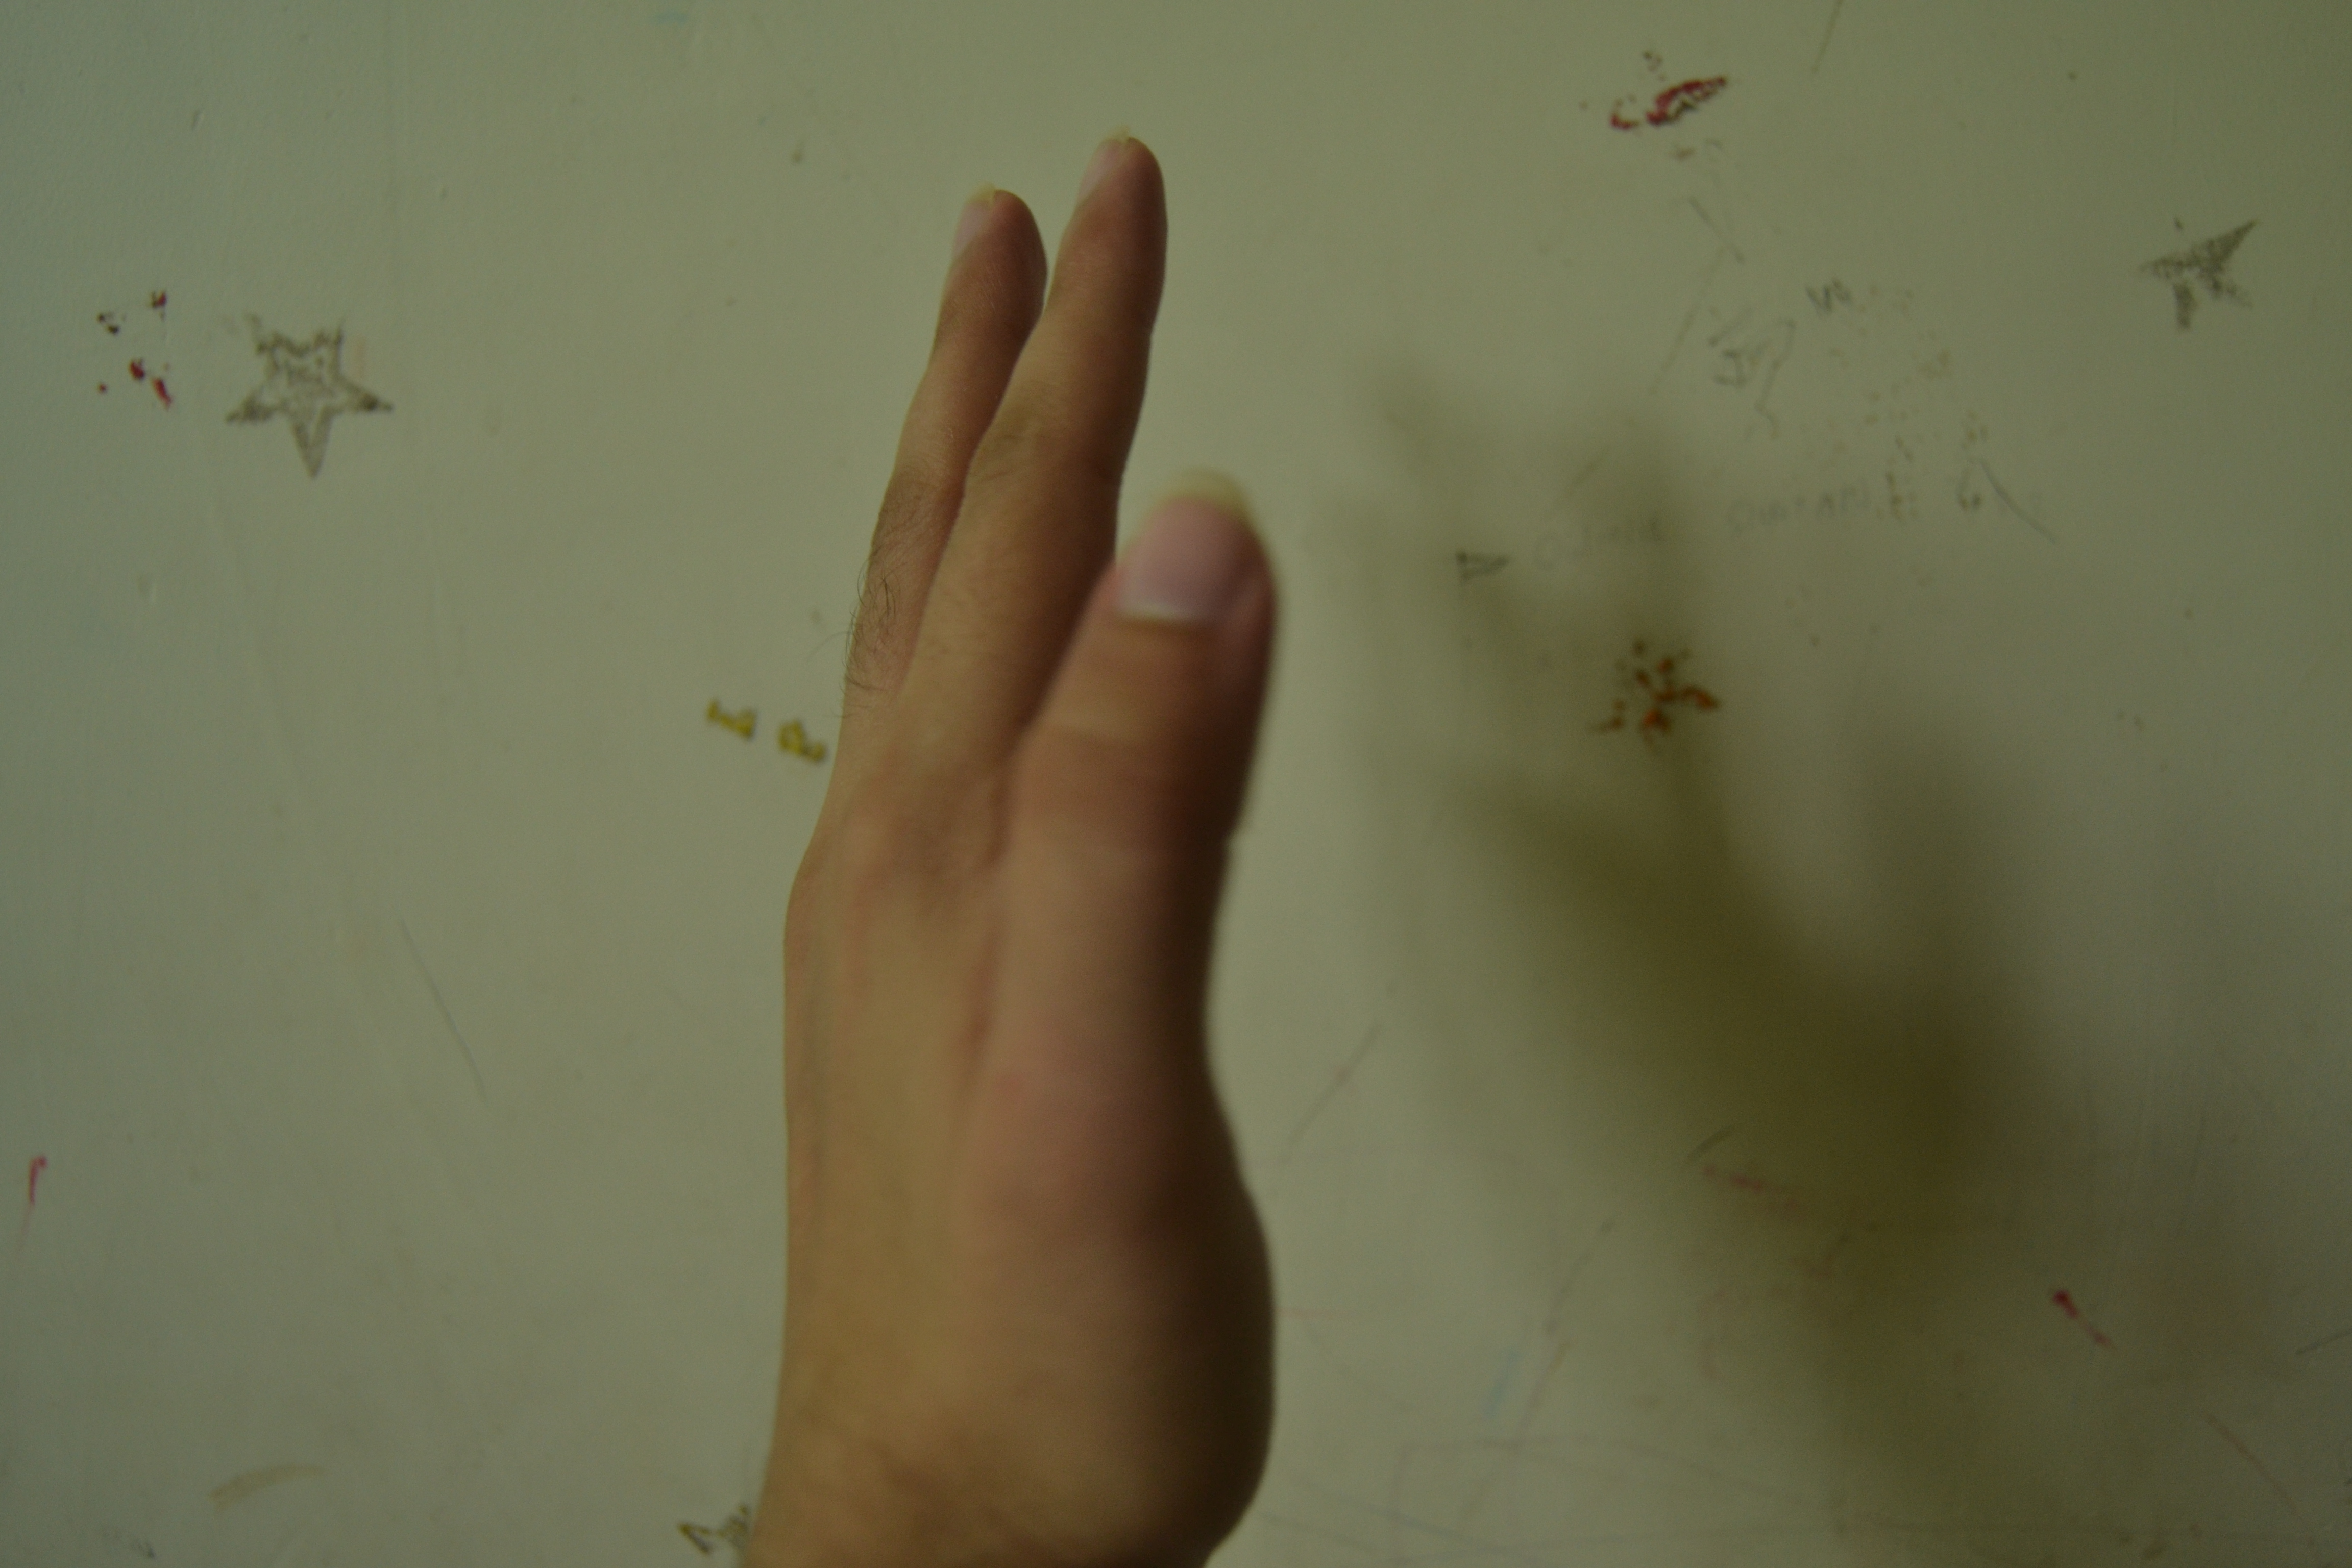move: (791, 135, 1360, 1543)
